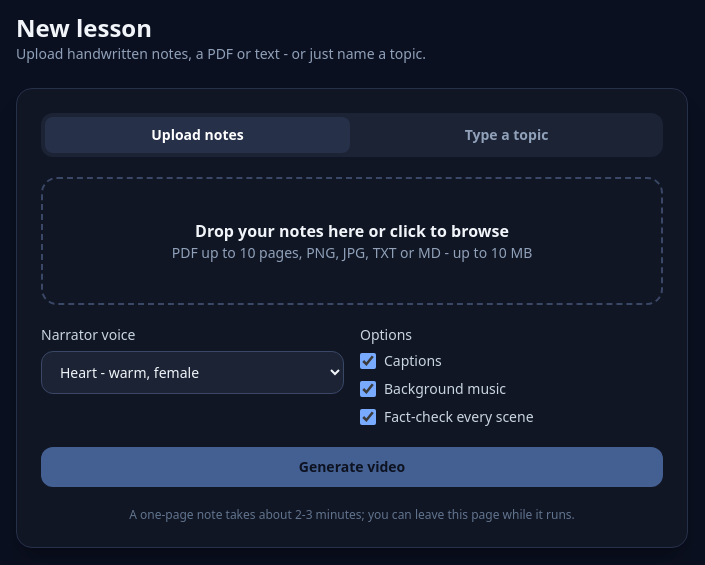
Test: pages › enables Generate only once there is something to generate from
The image size is (705, 565).
Expected: the button "Generate video" is disabled, [41,447,663,487]
Click the button "Type a topic" at [506, 135], box [354,117,659,153]
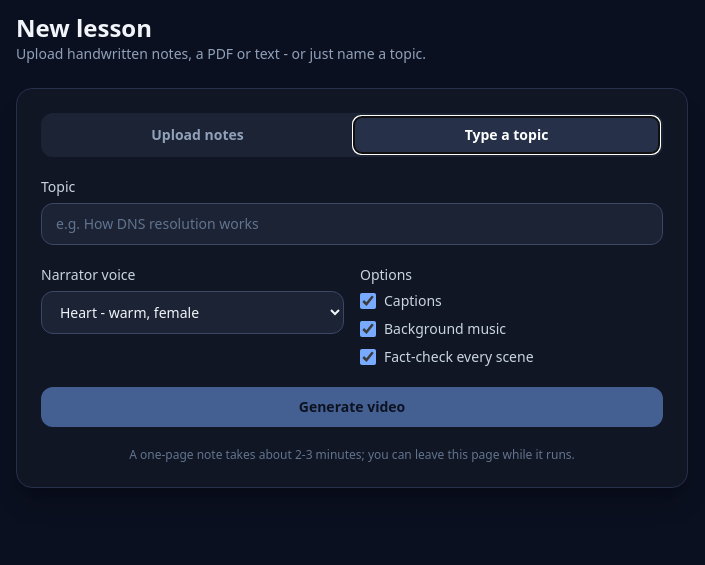
Type "How DNS works" into the field labelled "Topic" at [352, 224], box [41,203,663,245]
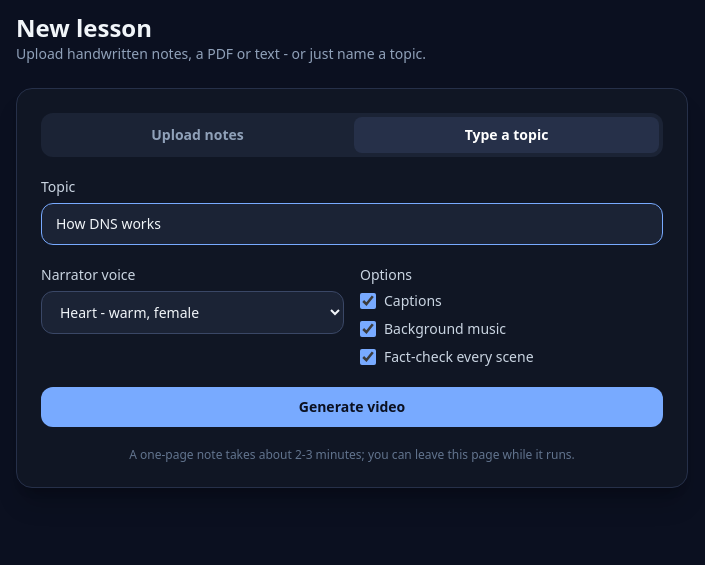
Result: the button "Generate video" is enabled at [41,387,663,427]
